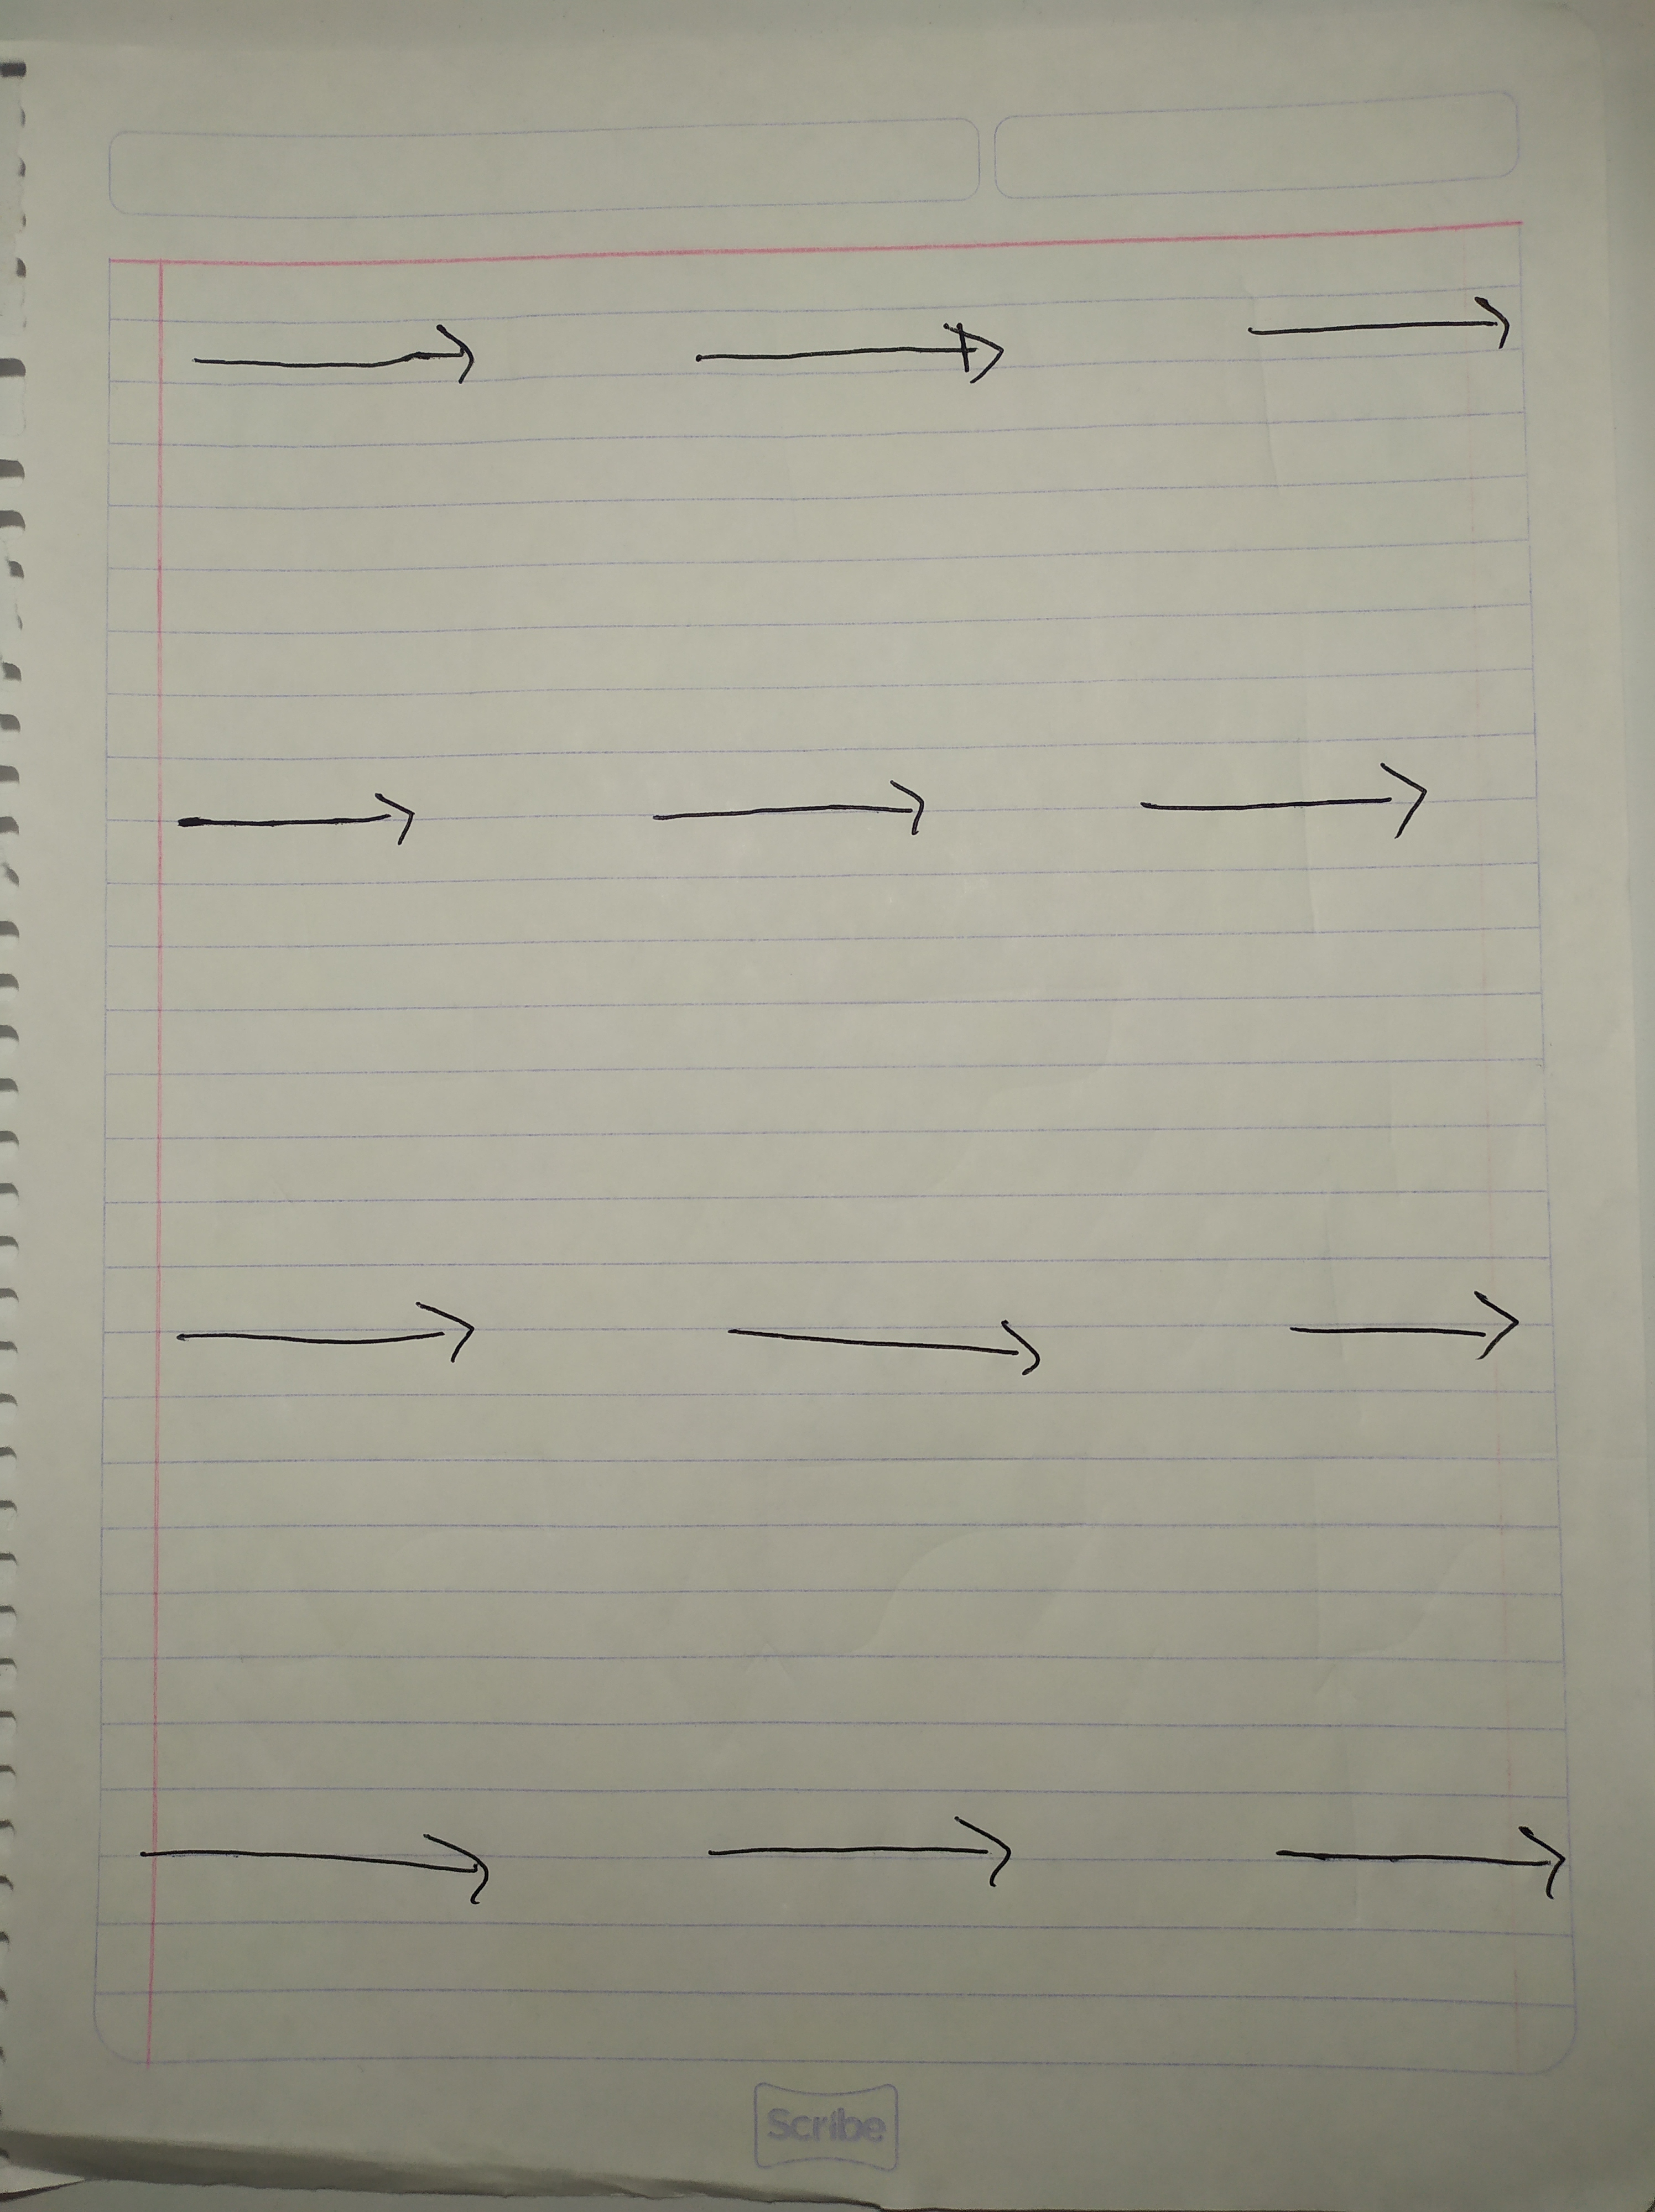arrow_line_right: (697, 1281, 1114, 1414), (123, 1805, 528, 1932), (1066, 751, 1476, 874), (139, 1277, 525, 1388), (165, 301, 513, 419), (1236, 1800, 1577, 1917), (678, 1802, 1052, 1899), (612, 761, 982, 857), (655, 311, 1053, 391), (1271, 1267, 1537, 1374), (1219, 283, 1525, 375), (146, 772, 445, 862)
